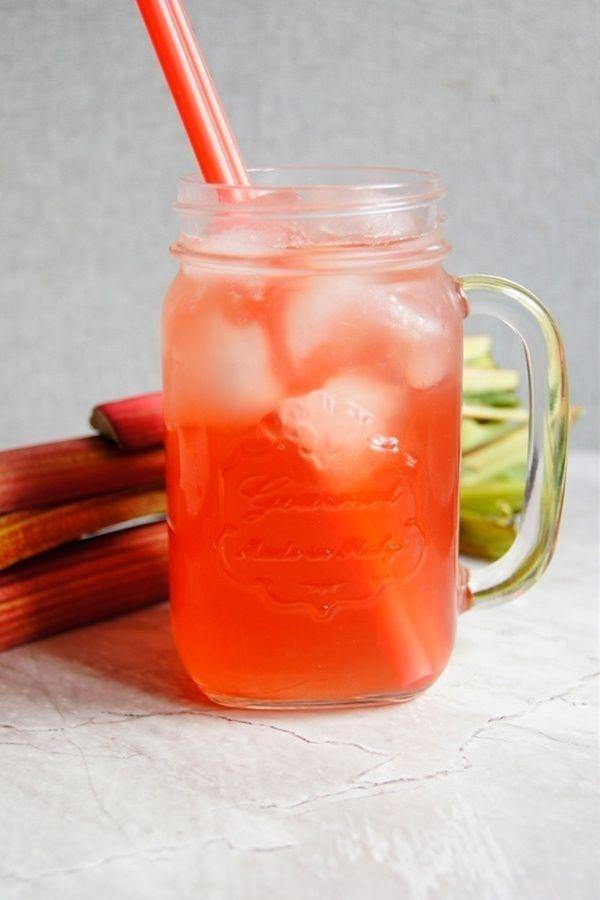glass-mug: (154, 157, 573, 718)
